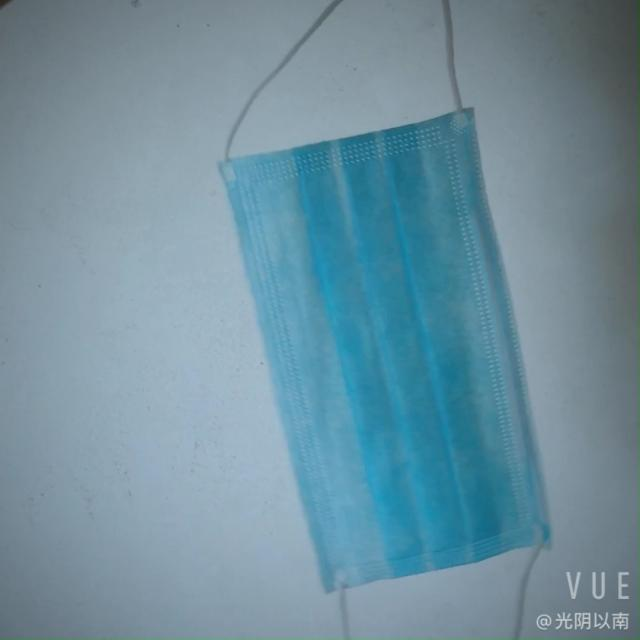face mask: (234, 97, 548, 576)
